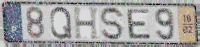8: (25, 5, 47, 40)
9: (153, 7, 176, 43)
E: (125, 8, 153, 40)
H: (72, 6, 101, 41)
Q: (49, 6, 74, 41)
S: (99, 6, 126, 42)
